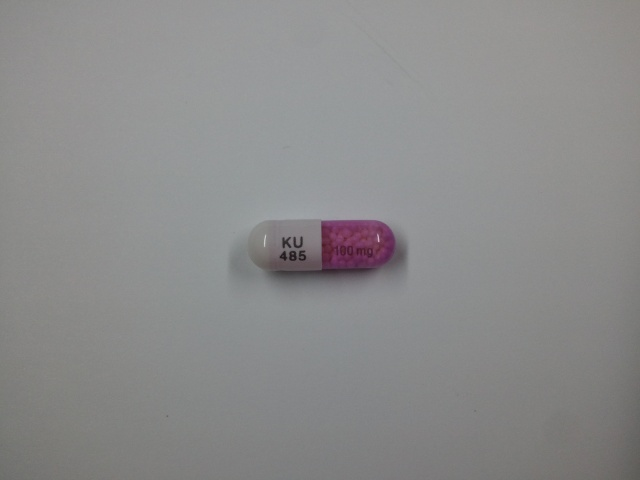4: (278, 250, 288, 262)
5: (298, 250, 307, 263)
8: (288, 250, 298, 262)
K: (280, 234, 292, 249)
U: (292, 235, 305, 249)
capsule: (244, 217, 398, 278)
